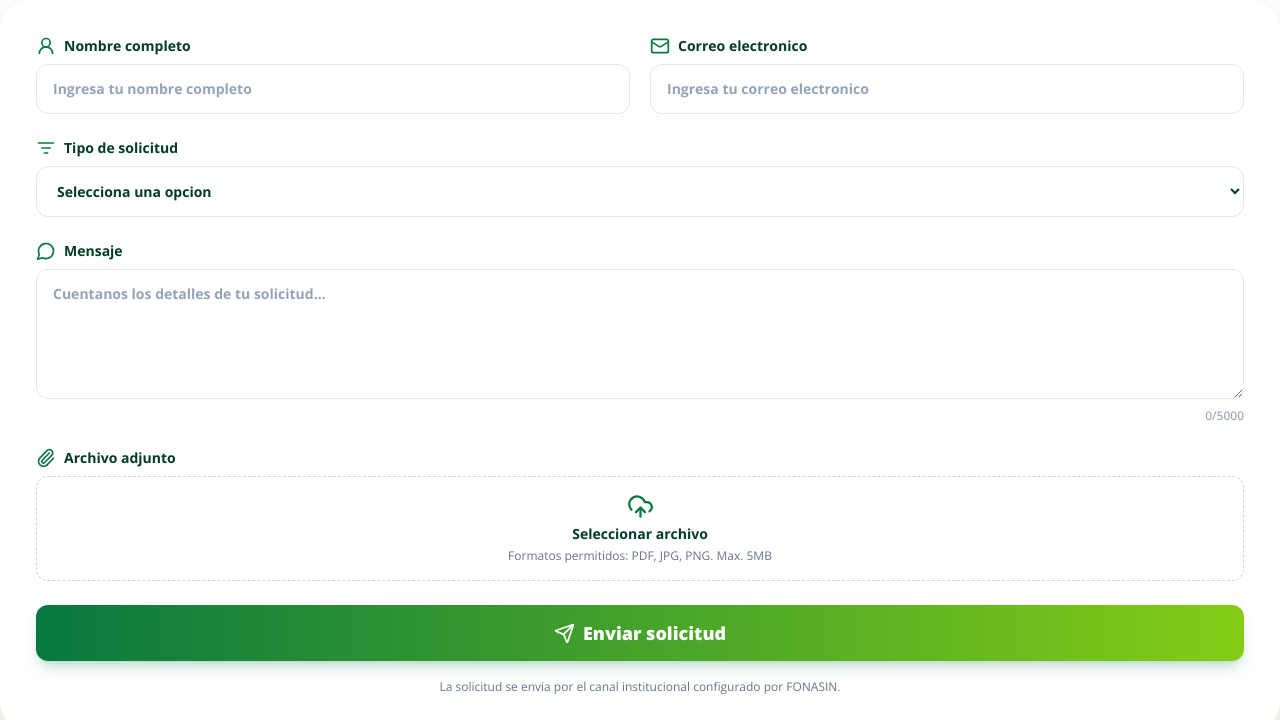
Test: FPQRS delivery confirmation › confirms a successful submission without attachment and sends its optional file
Type "Synthetic Citizen" into the field labelled "Nombre completo". click: (333, 89)
box: [36,64,630,114]
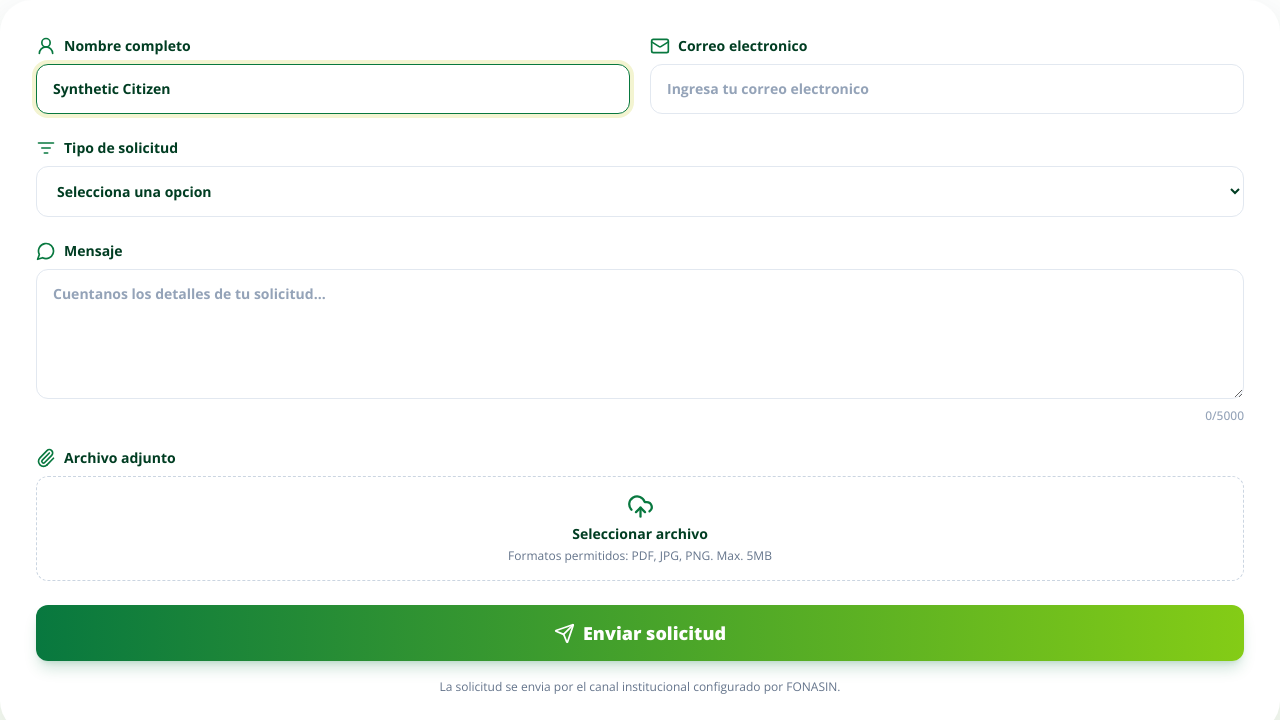
Type "citizen@example.test" into the field labelled "Correo electronico". click: (947, 89)
box: [650,64,1244,114]
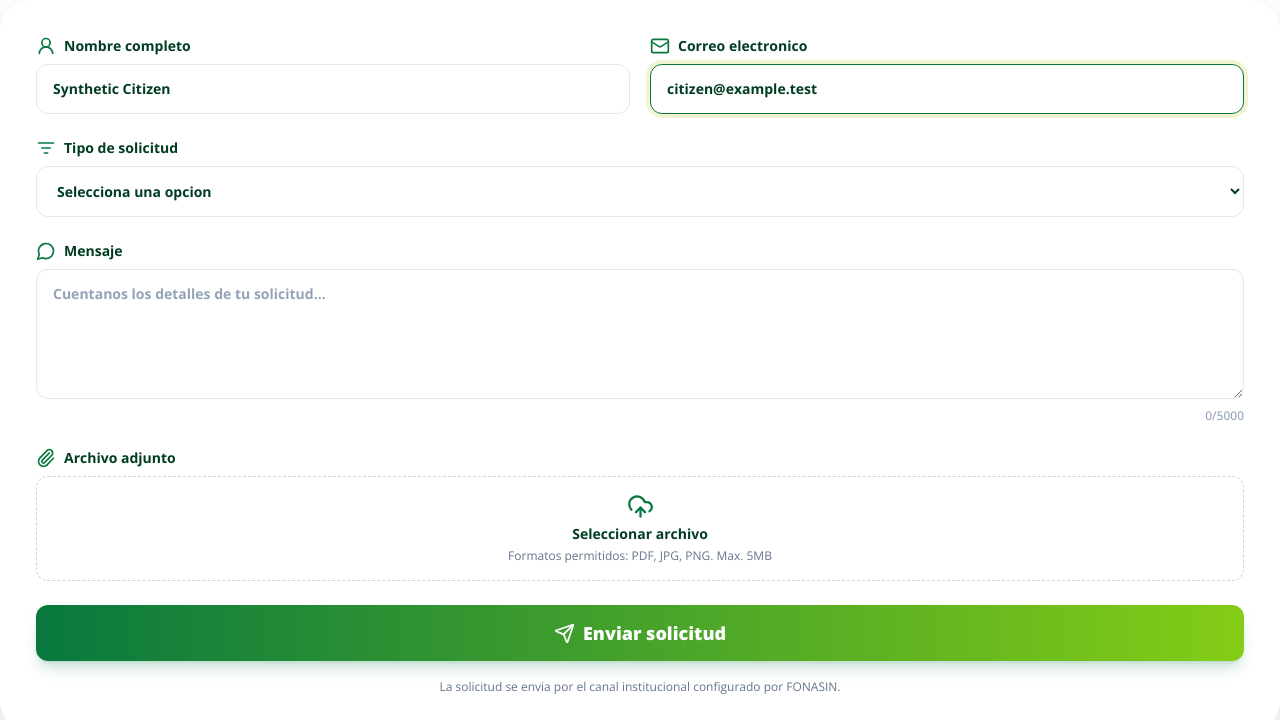
Select "Peticion" in the dropdown. click: (640, 192)
box: [36,166,1244,217]
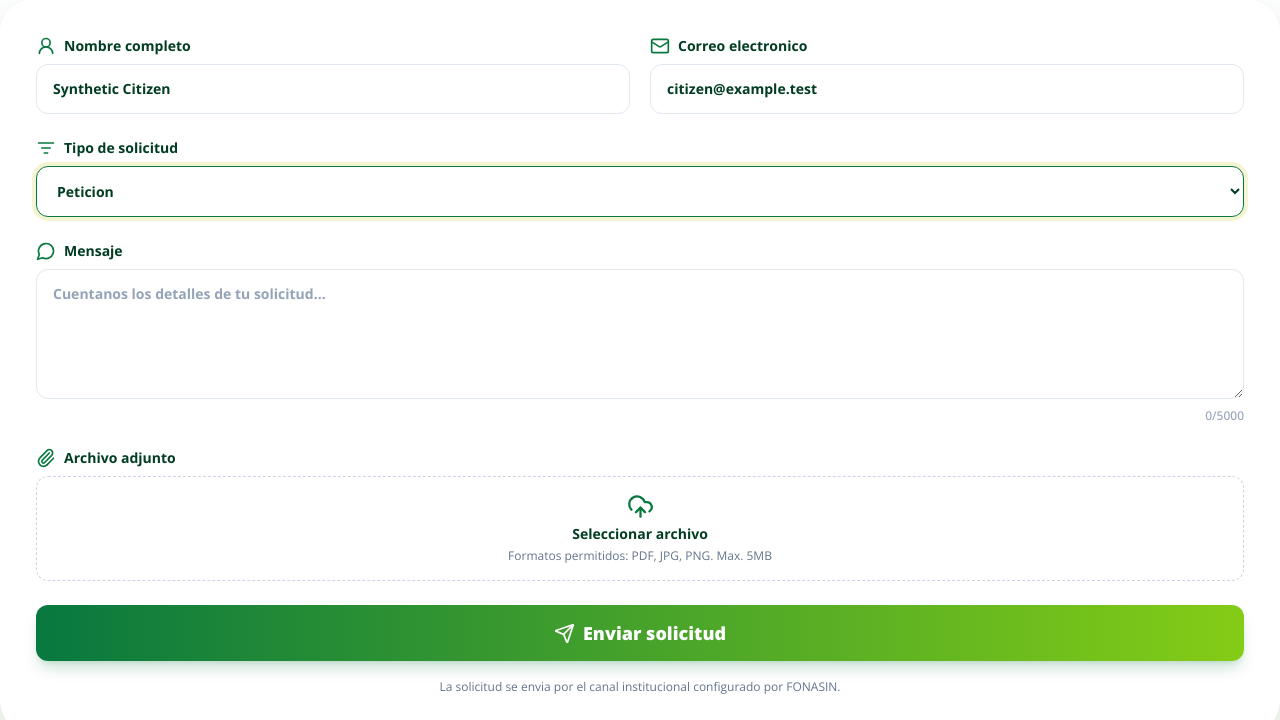
Type "Synthetic message." into the text box labelled "Mensaje 0/5000". click: (640, 334)
box: [36,269,1244,399]
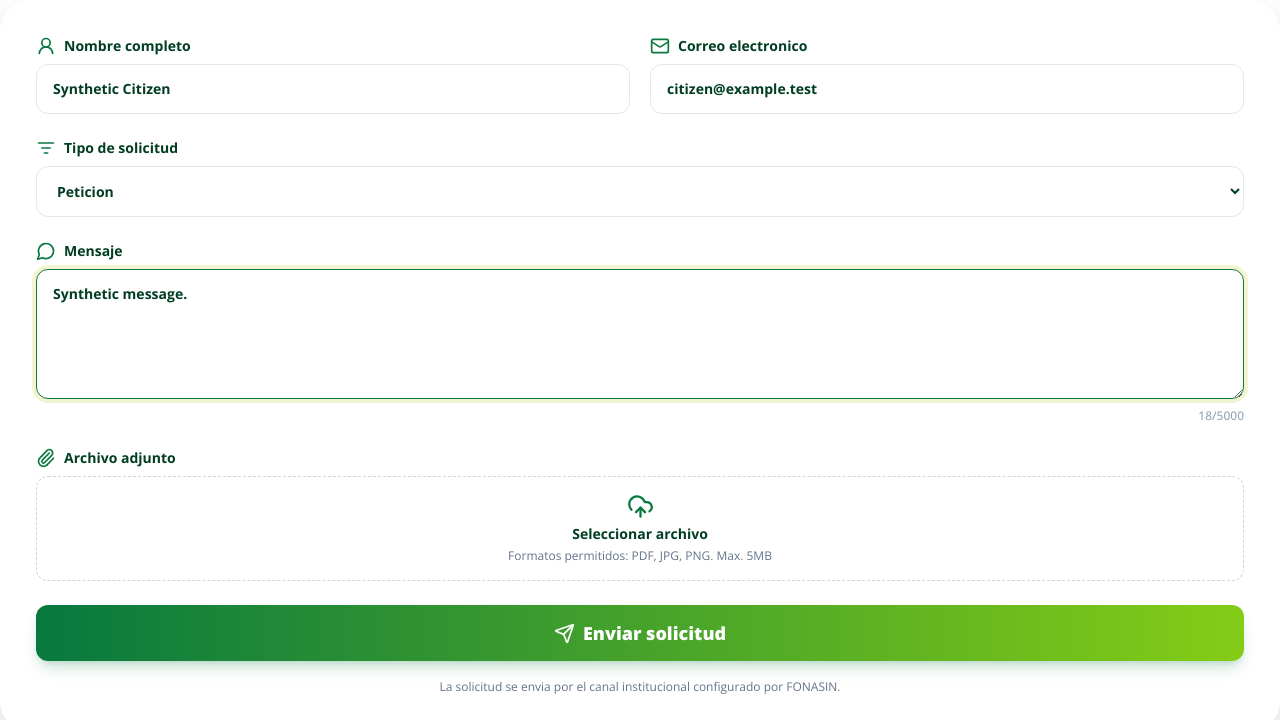
Click the button "Enviar solicitud". click: (640, 633)
box: [36,605,1244,661]
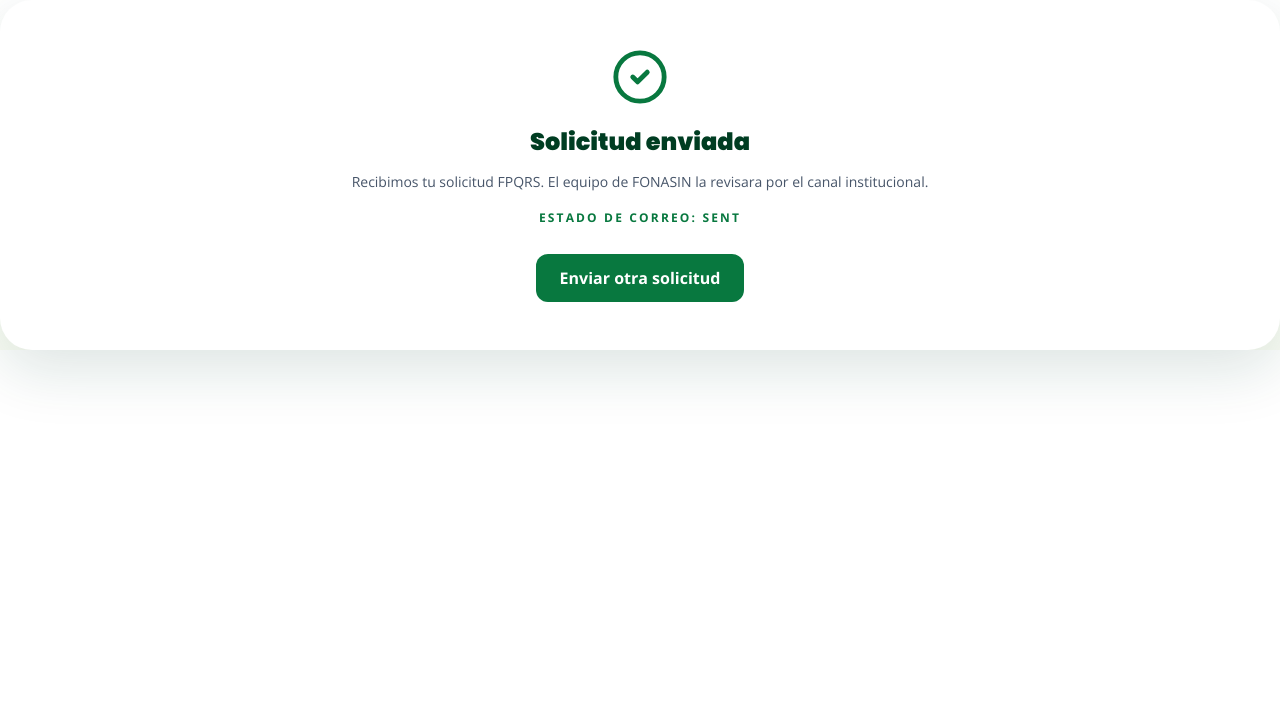
Expected: the heading "Solicitud enviada" is shown, [530,125,750,158]
